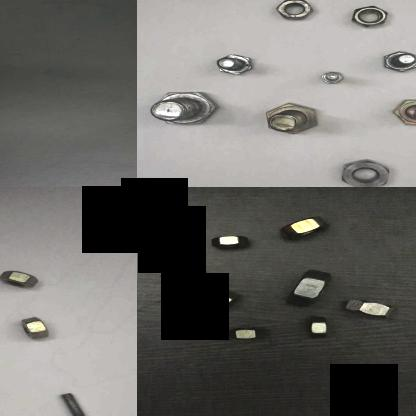Bolts: (142, 89, 218, 136), (257, 100, 325, 134), (44, 383, 108, 416), (375, 44, 416, 72), (212, 52, 256, 76), (392, 97, 416, 127), (311, 67, 347, 87)
NUTS: (284, 269, 338, 306), (338, 153, 395, 187), (192, 287, 254, 315), (265, 212, 331, 238), (340, 297, 408, 318), (156, 259, 206, 287), (15, 314, 57, 346), (201, 231, 254, 256), (350, 0, 390, 31), (0, 265, 43, 293), (271, 0, 317, 26), (302, 312, 336, 340), (226, 322, 271, 343)
